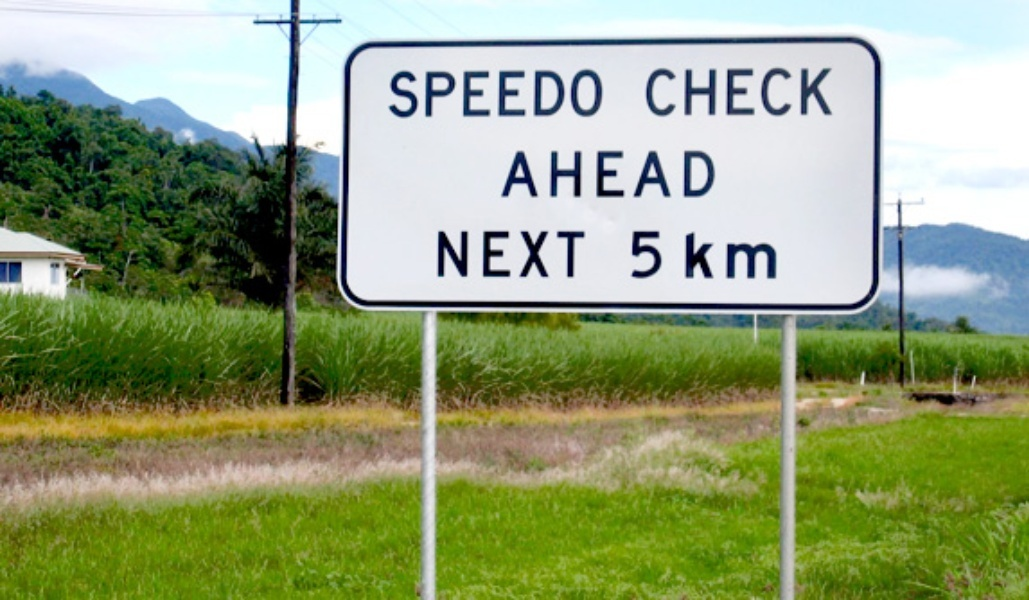text: (401, 67, 416, 119), (417, 67, 432, 119), (433, 67, 448, 119), (449, 67, 464, 119), (465, 67, 480, 119), (481, 67, 496, 119), (497, 67, 512, 119), (513, 67, 528, 119), (529, 67, 544, 119), (545, 67, 560, 119), (561, 67, 576, 119), (577, 67, 592, 119), (641, 230, 656, 281), (689, 230, 704, 281), (705, 230, 720, 281), (721, 230, 736, 281), (737, 230, 752, 281), (753, 230, 768, 281), (657, 67, 672, 117), (673, 67, 688, 117), (689, 67, 704, 117), (705, 67, 720, 117), (721, 67, 736, 117), (737, 67, 752, 117), (753, 67, 768, 117), (769, 67, 784, 117), (785, 67, 800, 117), (801, 67, 816, 117), (817, 67, 832, 117), (449, 230, 464, 279), (465, 230, 480, 279), (481, 230, 496, 279), (497, 230, 512, 279), (513, 230, 528, 279), (529, 230, 544, 279), (545, 230, 560, 279), (561, 230, 576, 279), (513, 150, 528, 198), (529, 150, 544, 198), (545, 150, 560, 198), (561, 150, 576, 198), (577, 150, 592, 198), (593, 150, 608, 198), (609, 150, 624, 198), (625, 150, 640, 198), (641, 150, 656, 198), (657, 150, 672, 198), (673, 150, 688, 198), (689, 150, 704, 198), (643, 67, 656, 117), (388, 67, 400, 119), (705, 150, 717, 198), (593, 67, 604, 119), (629, 230, 640, 281), (437, 230, 448, 279), (769, 230, 776, 281), (577, 230, 584, 279), (657, 230, 661, 281), (685, 230, 688, 281), (833, 67, 834, 117)
